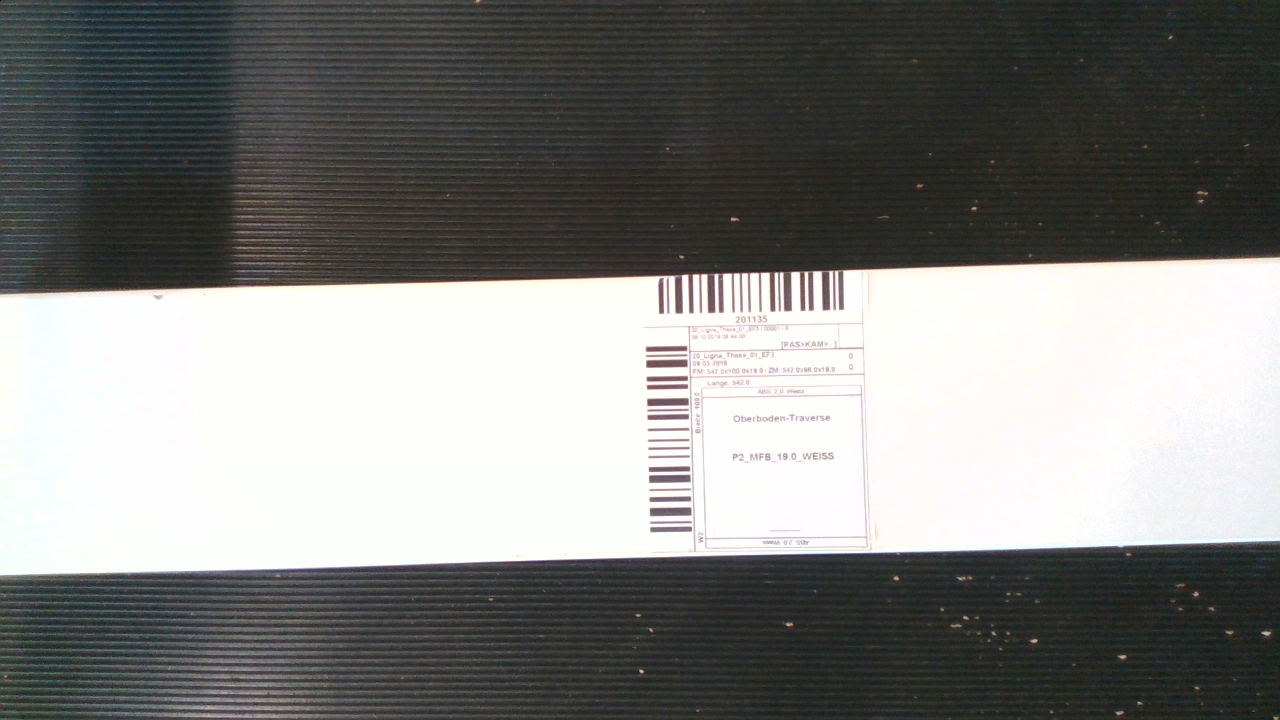barcode: (615, 267, 906, 555)
